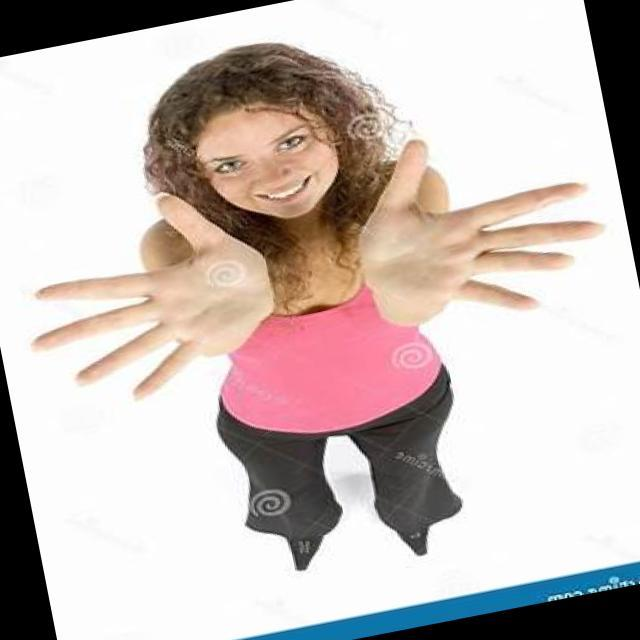not-gloved: (322, 98, 636, 355), (0, 166, 285, 418)
